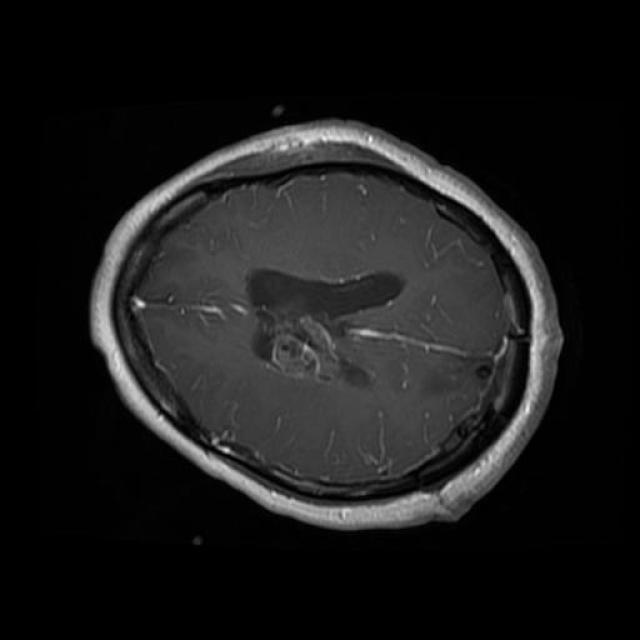Glioma: (258, 306, 344, 380)
